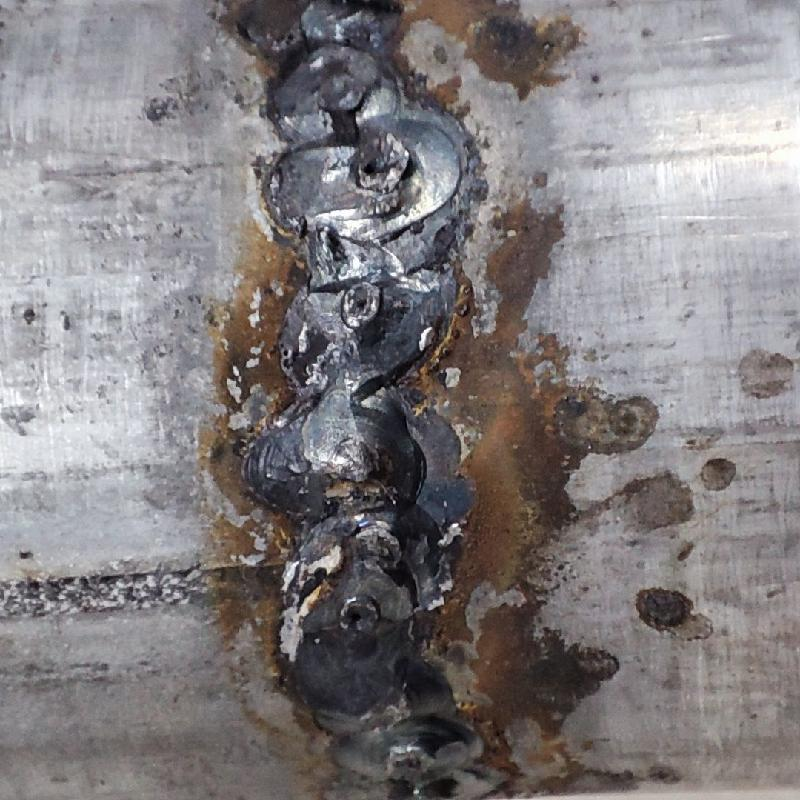Surface_pores: (352, 135, 404, 195), (336, 591, 381, 642), (334, 285, 380, 323)
wrong_size: (223, 2, 507, 795)
